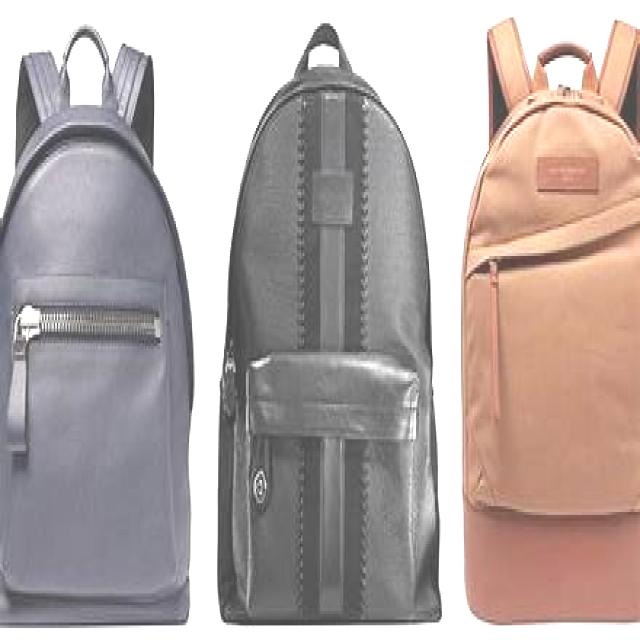backpack: (216, 22, 443, 627), (1, 21, 194, 626), (461, 13, 640, 627)
